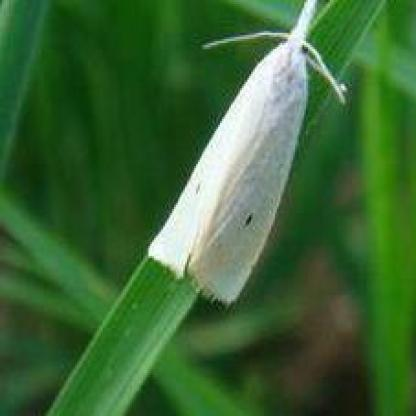stem-borer: (142, 0, 350, 311)
